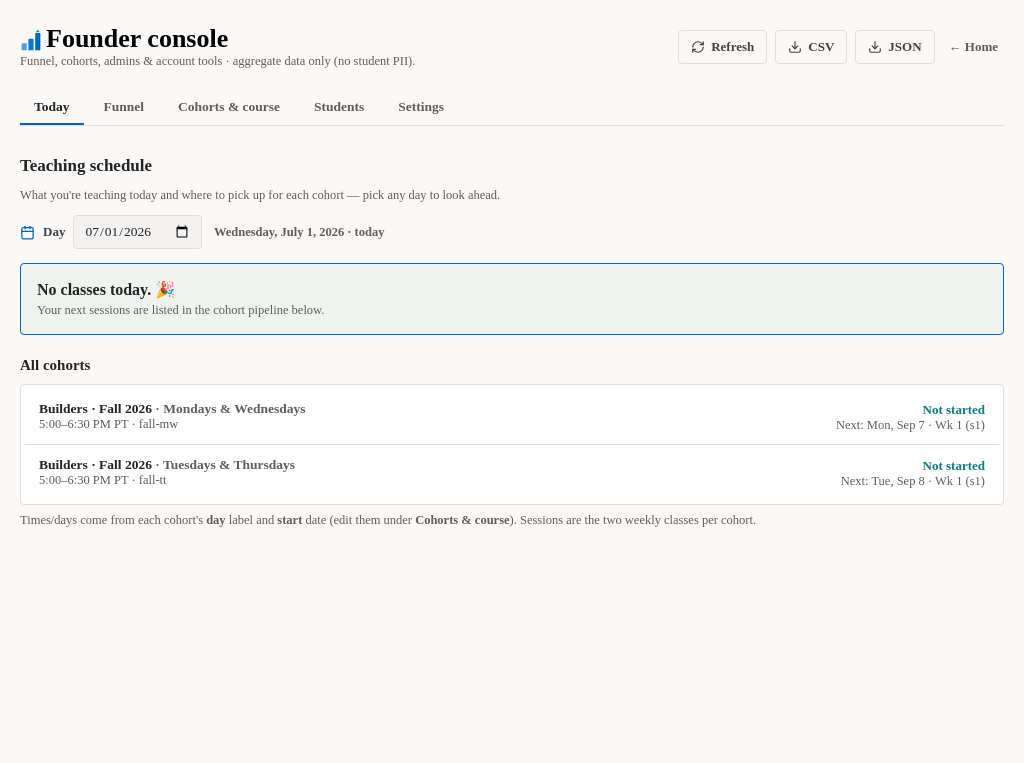
it: FounderDashboard (account-gated) › Traffic & engagement is scoped to the selected Period (month), not all-time
Click the button "Funnel" at (124, 106), box [104,99,144,114]
(page scrolled)
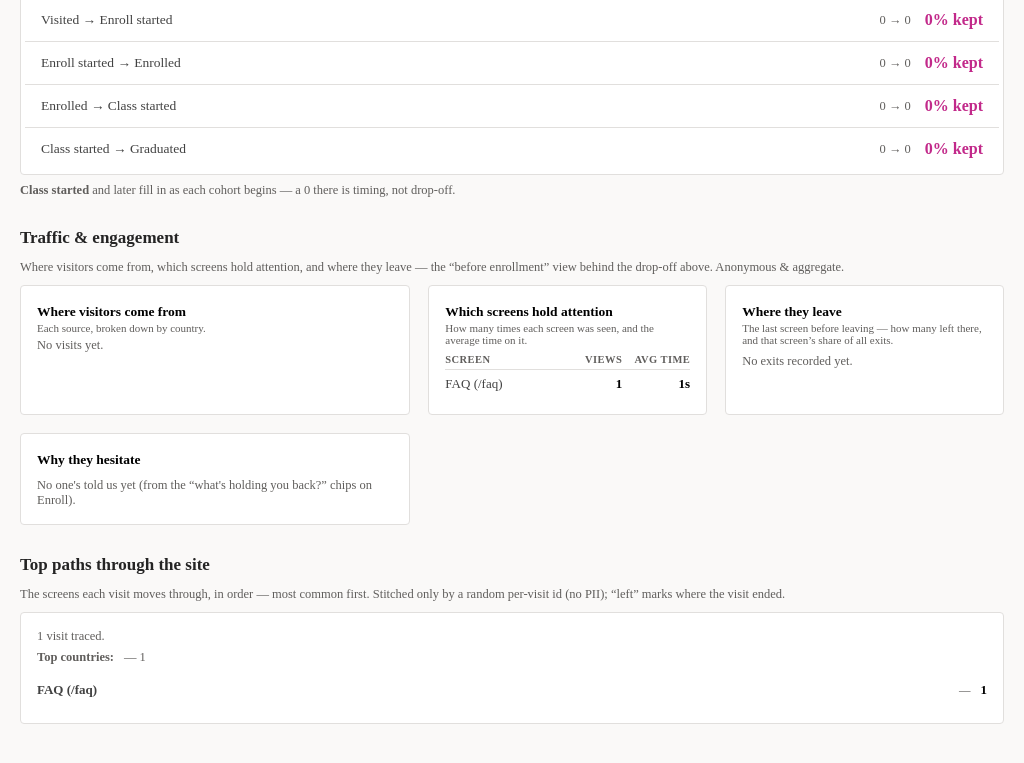
expect the text "Which screens hold attention" is shown: met, box [445,304,613,319]
expect the text "FAQ (/faq)" in the row of "1s" is shown: met, box [445,376,502,391]
